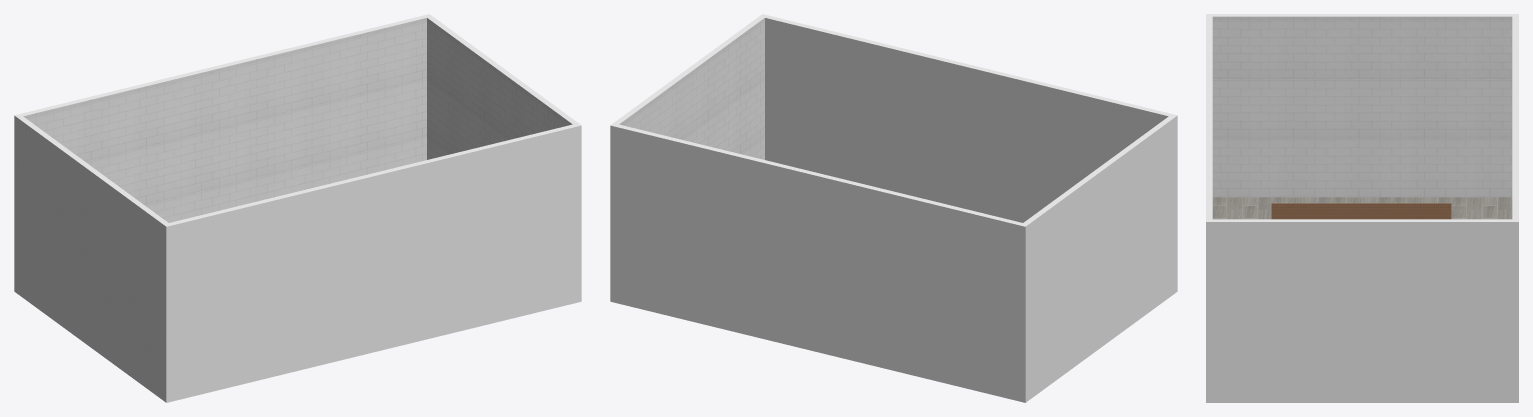
The model's file is 7785_maze.dae.
The picture shows the model from 3 angles, left to right: view 1: azimuth 30°, elevation 25°; view 2: azimuth 150°, elevation 25°; view 3: azimuth 270°, elevation 25°; orthographic projection. The views are drawn at different scales.
Visible parts, largest first — view 1: SketchUp.002, SketchUp; view 2: SketchUp.002, SketchUp.001, SketchUp; view 3: SketchUp.002, SketchUp, SketchUp.003, Wall__2_.
Boxes of the visible parts, <box> form: SketchUp.002: <box>14,14,581,402</box>; SketchUp: <box>23,18,572,222</box>; SketchUp.002: <box>610,14,1177,402</box>; SketchUp.001: <box>765,18,1168,222</box>; SketchUp: <box>619,18,764,159</box>; SketchUp.002: <box>1206,14,1518,402</box>; SketchUp: <box>1212,16,1512,197</box>; SketchUp.003: <box>1212,197,1512,219</box>; Wall__2_: <box>1271,203,1451,219</box>.
Bounding box in the file's own units: 7.52 × 4.78 × 3.05.
Materials: 6 (5 with a texture image).
